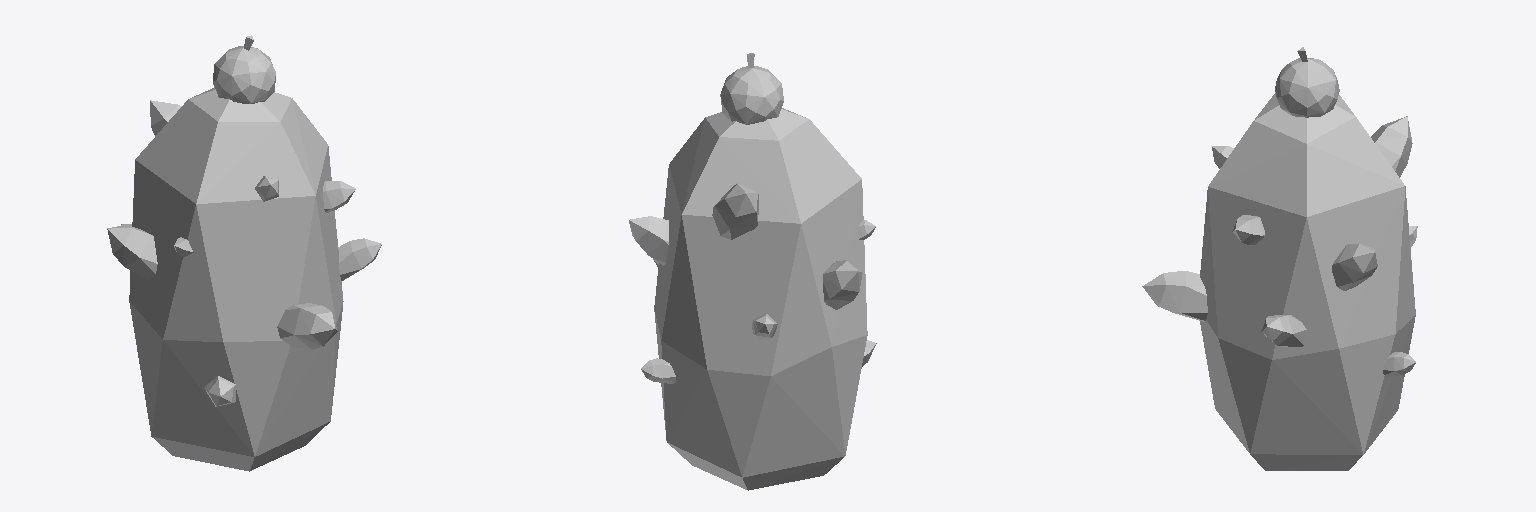
The model's file is tree3_2.obj.
The picture shows the model from 3 angles: view 1: azimuth 30°, elevation 25°; view 2: azimuth 150°, elevation 25°; view 3: azimuth 270°, elevation 25°; orthographic projection.
Parts seen in each view (by area): view 1: Icosphere, Icosphere.011, Icosphere.006; view 2: Icosphere, Icosphere.011, Icosphere.006; view 3: Icosphere, Icosphere.011, Icosphere.006.
Part boxes in pixels (left/top/right/bottom): Icosphere: left=129, top=87, right=343, bottom=471; Icosphere.011: left=107, top=100, right=381, bottom=406; Icosphere.006: left=213, top=46, right=275, bottom=103; Icosphere: left=654, top=108, right=867, bottom=490; Icosphere.011: left=629, top=183, right=876, bottom=383; Icosphere.006: left=720, top=66, right=783, bottom=124; Icosphere: left=1200, top=92, right=1415, bottom=470; Icosphere.011: left=1142, top=116, right=1417, bottom=377; Icosphere.006: left=1275, top=58, right=1339, bottom=117.
Size of the model in its own units: 0.9112 by 1.53 by 0.9088.